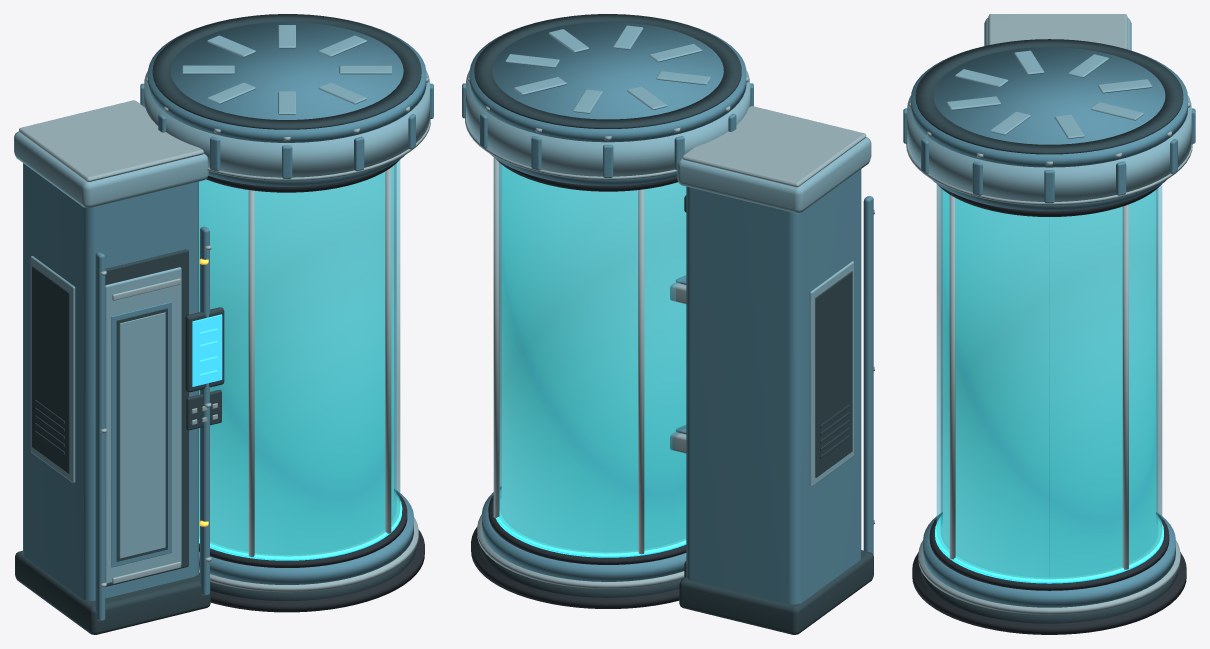
File: BlueTube_Glossy_StudioTextured.glb
3 renders of one model, left to right at view 1: azimuth 30°, elevation 25°; view 2: azimuth 150°, elevation 25°; view 3: azimuth 270°, elevation 25°, orthographic.
Parts seen in each view (by area): view 1: Tube_Glossy_cobalt_blue_enamel, Tube_Cyan_glass_shell, Tube_Cyan_energy_core, Tube_Worn_light_blue_panels, Tube_Recessed_graphite, Tube_Polished_steel_edge, Tube_Dark_rubber_gasket, Tube_Diagnostic_screen, Tube_Indicator_bright_cyan; view 2: Tube_Glossy_cobalt_blue_enamel, Tube_Cyan_glass_shell, Tube_Cyan_energy_core, Tube_Recessed_graphite, Tube_Worn_light_blue_panels, Tube_Polished_steel_edge, Tube_Dark_rubber_gasket, Tube_Indicator_bright_cyan; view 3: Tube_Cyan_glass_shell, Tube_Cyan_energy_core, Tube_Glossy_cobalt_blue_enamel, Tube_Worn_light_blue_panels, Tube_Polished_steel_edge, Tube_Recessed_graphite, Tube_Dark_rubber_gasket, Tube_Indicator_bright_cyan.
Part boxes in pixels (left/top/right/bottom): Tube_Glossy_cobalt_blue_enamel: left=23, top=19, right=433, bottom=621; Tube_Cyan_glass_shell: left=199, top=160, right=400, bottom=556; Tube_Cyan_energy_core: left=199, top=165, right=393, bottom=553; Tube_Worn_light_blue_panels: left=14, top=25, right=429, bottom=583; Tube_Recessed_graphite: left=15, top=14, right=421, bottom=634; Tube_Polished_steel_edge: left=19, top=76, right=430, bottom=592; Tube_Dark_rubber_gasket: left=199, top=160, right=424, bottom=612; Tube_Diagnostic_screen: left=192, top=314, right=222, bottom=386; Tube_Indicator_bright_cyan: left=199, top=328, right=402, bottom=560; Tube_Glossy_cobalt_blue_enamel: left=462, top=19, right=873, bottom=604; Tube_Cyan_glass_shell: left=499, top=163, right=686, bottom=553; Tube_Cyan_energy_core: left=501, top=165, right=686, bottom=550; Tube_Recessed_graphite: left=474, top=14, right=873, bottom=634; Tube_Worn_light_blue_panels: left=466, top=25, right=871, bottom=486; Tube_Polished_steel_edge: left=465, top=76, right=874, bottom=588; Tube_Dark_rubber_gasket: left=471, top=159, right=686, bottom=608; Tube_Indicator_bright_cyan: left=495, top=490, right=686, bottom=557; Tube_Cyan_glass_shell: left=936, top=184, right=1162, bottom=578; Tube_Cyan_energy_core: left=943, top=190, right=1155, bottom=576; Tube_Glossy_cobalt_blue_enamel: left=903, top=46, right=1195, bottom=607; Tube_Worn_light_blue_panels: left=907, top=18, right=1191, bottom=201; Tube_Polished_steel_edge: left=906, top=14, right=1192, bottom=614; Tube_Recessed_graphite: left=915, top=39, right=1183, bottom=623; Tube_Dark_rubber_gasket: left=912, top=184, right=1186, bottom=634; Tube_Indicator_bright_cyan: left=935, top=515, right=1163, bottom=583.
Bounding box in the file's own units: 9.44 × 12.1 × 6.63.
Materials: 10 (10 with a texture image).
